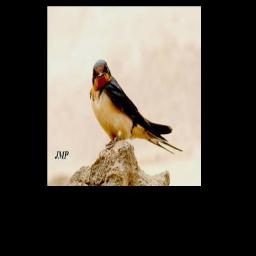Swallow: (89, 58, 183, 161)
